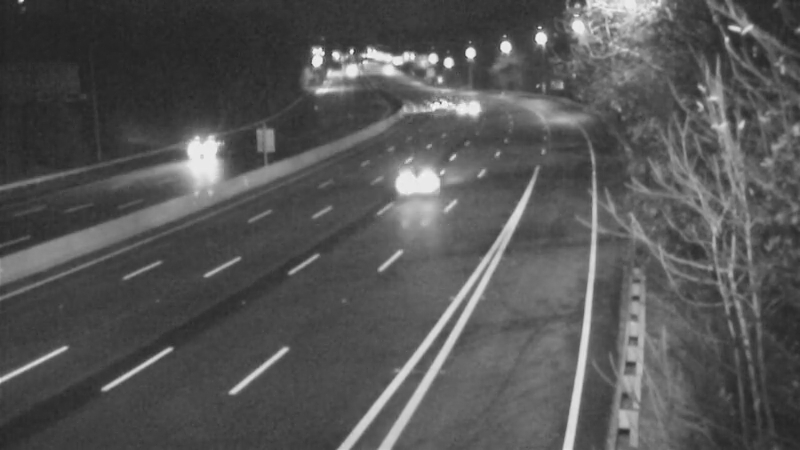vehicle: (376, 131, 456, 211), (157, 114, 237, 194), (359, 45, 409, 95), (418, 77, 468, 127), (444, 80, 494, 130)
